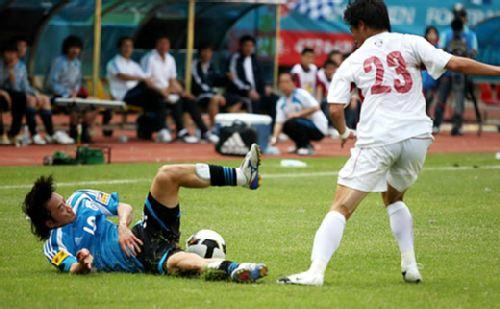10+: (1, 1, 500, 288)
down: (14, 127, 281, 289)
